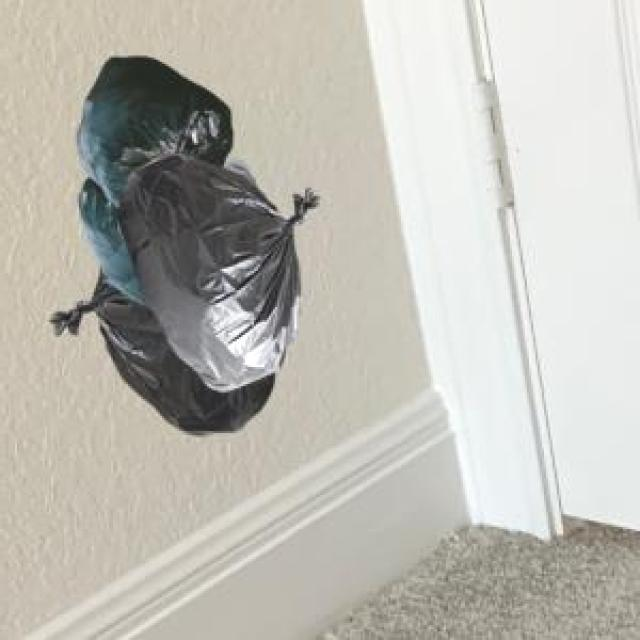Trashbag: (125, 161, 306, 400), (74, 50, 232, 191)
